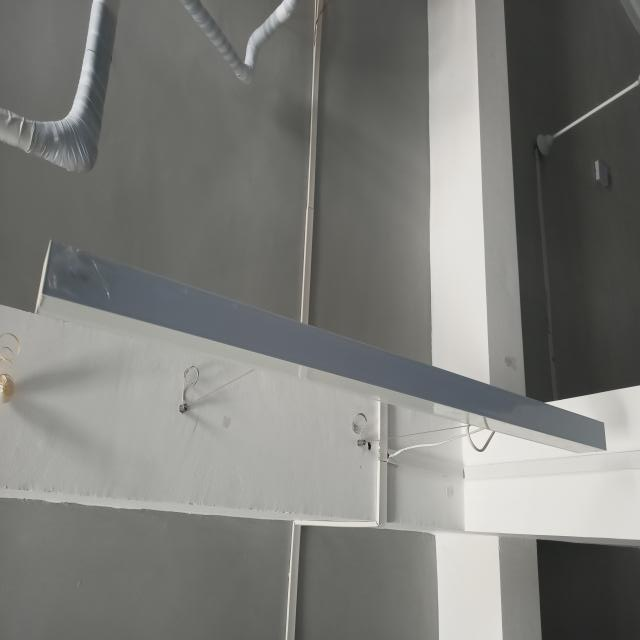fluorescent tube: (27, 230, 608, 459)
